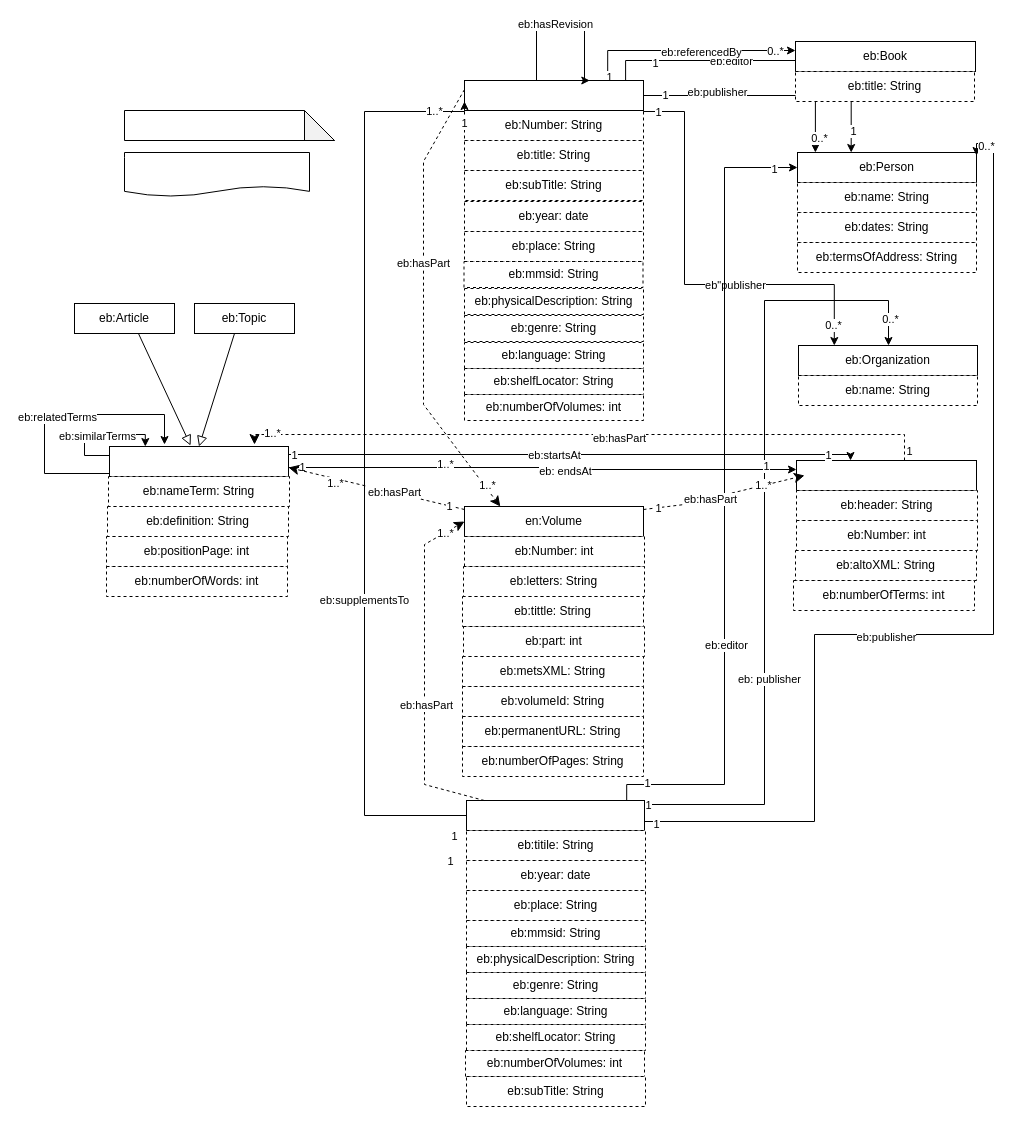
This 1019x1124 diagram has some shape labels left out. Here are the shapes that lost their labels. From the top down, the box of each, then its label:
(464, 80, 644, 110): eb:Edition
(124, 110, 334, 140): eb : https://w3id.org/eb/
(124, 152, 310, 196): dc:creator: Rosa Filgueira owl:versionInfo: 0.0.1 dc:title: EB Ontology
(108, 446, 288, 476): eb:Term
(796, 460, 976, 490): eb:Page
(466, 800, 644, 830): eb:Supplement
